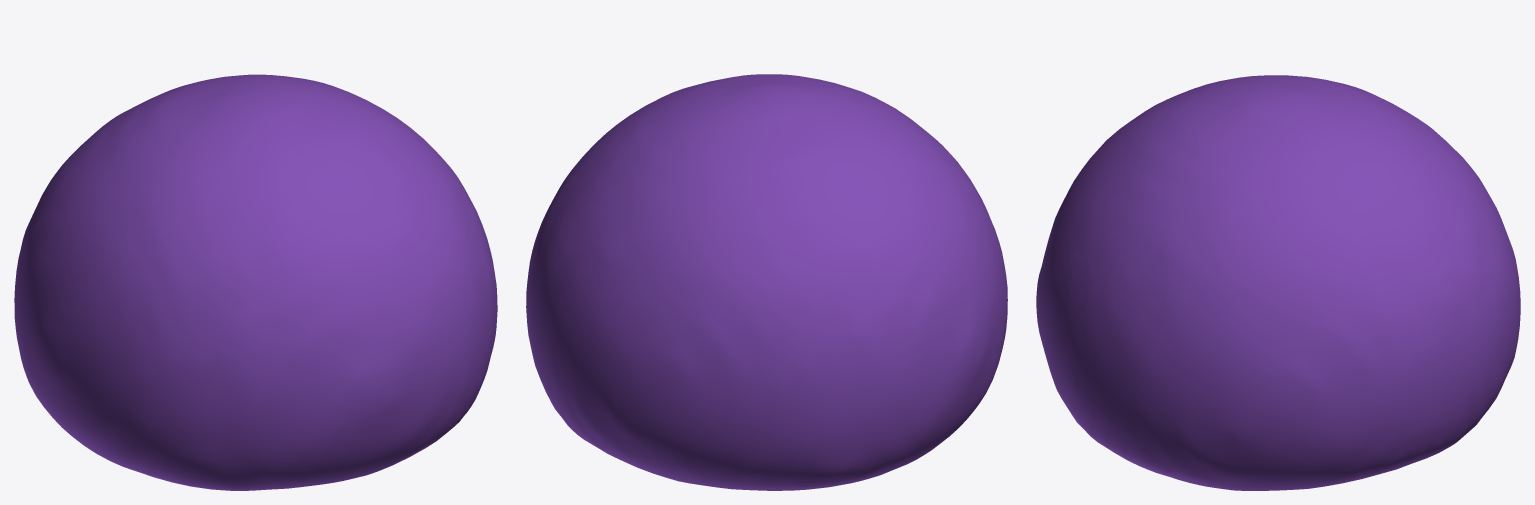
The model's file is slime_0014.dae.
3 renders of one model, left to right at view 1: azimuth 30°, elevation 25°; view 2: azimuth 150°, elevation 25°; view 3: azimuth 270°, elevation 25°, orthographic.
Parts seen in each view (by area): view 1: Slime; view 2: Slime; view 3: Slime.
Boxes of the visible parts, x1,y1,x2,y2 form: Slime: [14, 74, 497, 490]; Slime: [526, 74, 1007, 490]; Slime: [1036, 75, 1520, 490].
Bounding box in the file's own units: 2.06 × 1.94 × 2.06.
